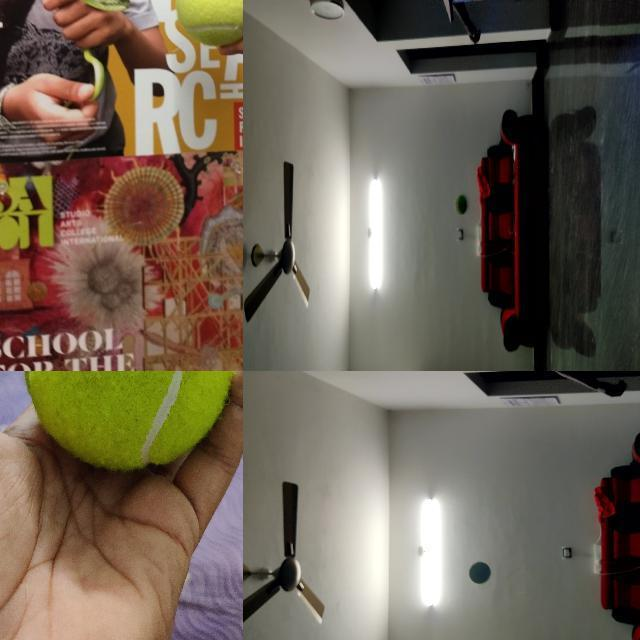tennis-ball: (22, 371, 236, 471), (175, 0, 242, 49), (469, 562, 491, 584), (454, 194, 467, 216)
